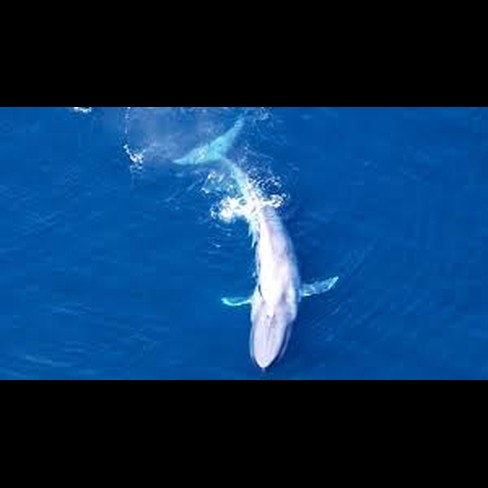bluewhale: (168, 112, 346, 376)
